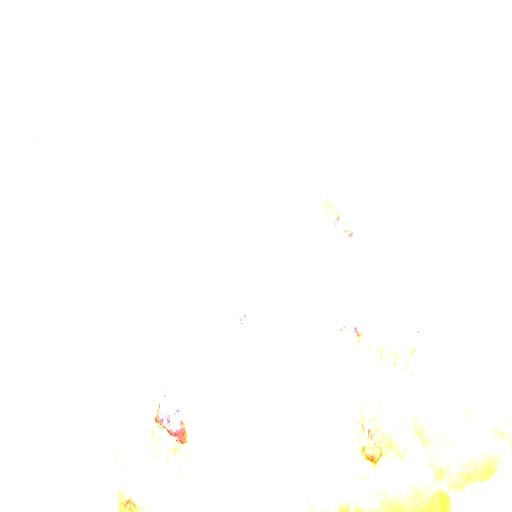Angular Leafspot: (90, 181, 478, 511)
